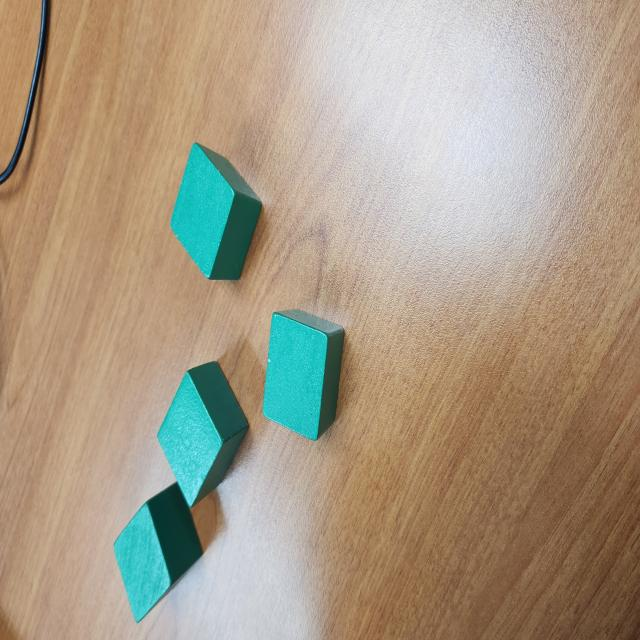green: (156, 360, 250, 509), (168, 141, 264, 282), (113, 479, 205, 626), (262, 309, 344, 442)
